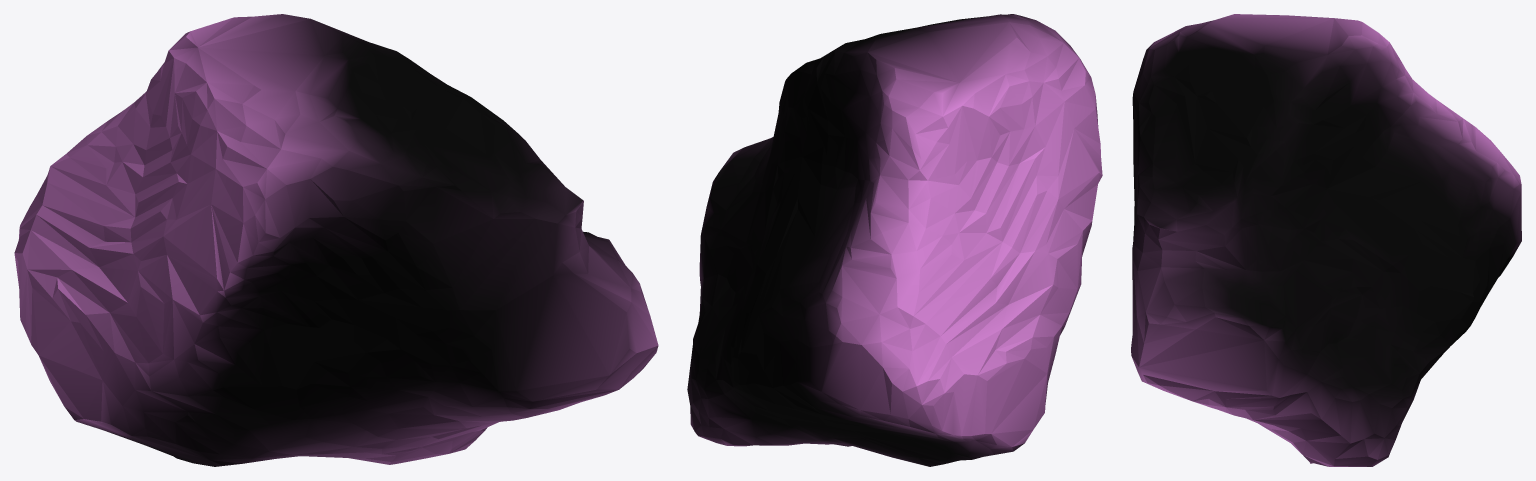
File: Geometry6_lao.dae
3 renders of one model, left to right at view 1: azimuth 30°, elevation 25°; view 2: azimuth 150°, elevation 25°; view 3: azimuth 270°, elevation 25°, orthographic. The views are drawn at different scales.
Visible parts, largest first — view 1: node; view 2: node; view 3: node.
Part boxes in pixels (<box>): node: <box>14,14,658,466</box>; node: <box>687,14,1102,466</box>; node: <box>1131,14,1521,466</box>.
Size of the model in its own units: 24.7 by 25.05 by 24.71.
